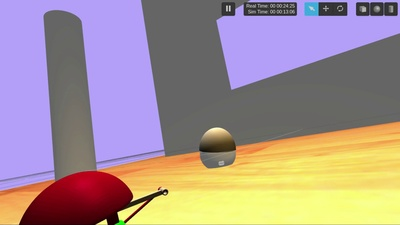mira_robot: (199, 127, 237, 169)
